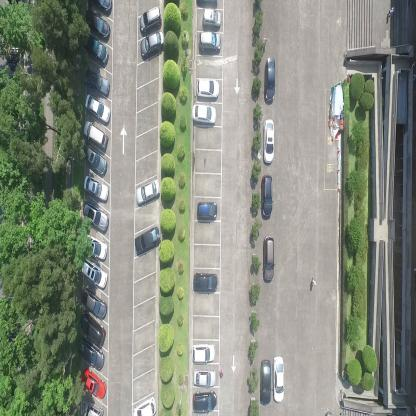car: (78, 311, 105, 348), (76, 336, 105, 370), (80, 286, 108, 321), (80, 141, 107, 176), (133, 225, 161, 258), (82, 200, 110, 233), (81, 33, 109, 65), (80, 258, 108, 289), (81, 119, 109, 150), (80, 367, 107, 399), (84, 8, 110, 41), (84, 92, 111, 123), (82, 174, 109, 203), (83, 68, 110, 97), (134, 178, 160, 207), (138, 4, 162, 34), (84, 233, 108, 262), (140, 30, 164, 58), (260, 175, 274, 219), (263, 57, 276, 104), (192, 390, 217, 414), (263, 233, 275, 282), (272, 355, 284, 403), (192, 272, 219, 293), (263, 118, 275, 165), (259, 358, 271, 405), (199, 29, 222, 52), (192, 342, 216, 364), (196, 198, 218, 221), (196, 78, 219, 100), (132, 396, 158, 415), (192, 105, 217, 124), (202, 7, 222, 30), (192, 369, 216, 388), (83, 398, 104, 416), (91, 0, 112, 15)
